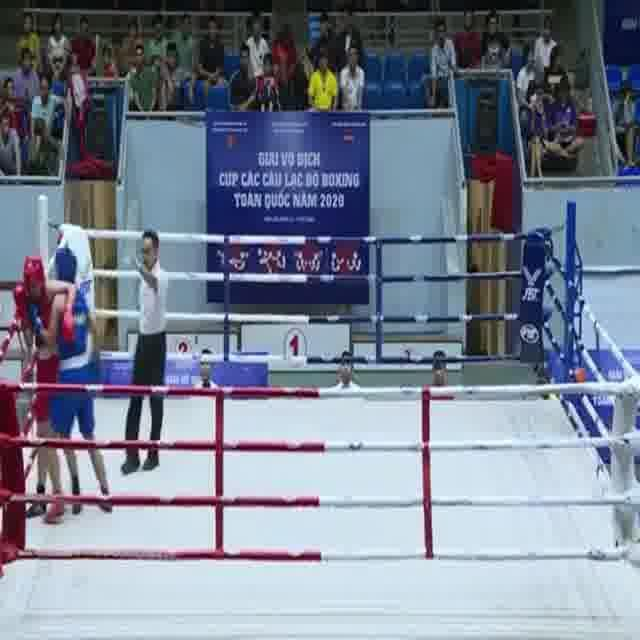blue-player: (24, 245, 115, 524)
red-player: (10, 252, 86, 522)
referee: (119, 226, 167, 476)
